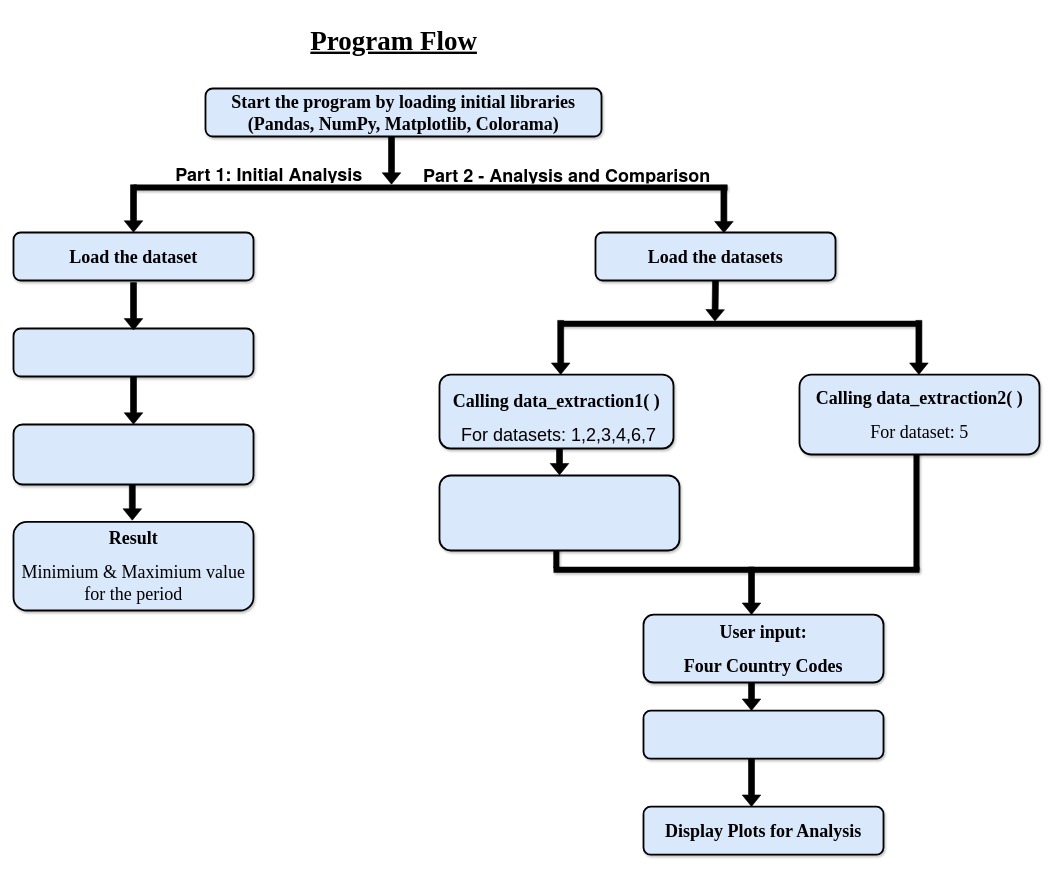
Some shapes in this 1054 by 870 pixel diagram are drawn without their labels. The centre of each missing label's shape, as x and y in pixels:
"Caling joining_male_female ( )" goes at point (560, 513).
"Calling Details( ) function" goes at point (134, 353).
"Calling plotting( )" goes at point (764, 735).
"User Input: Country Code" goes at point (134, 455).
